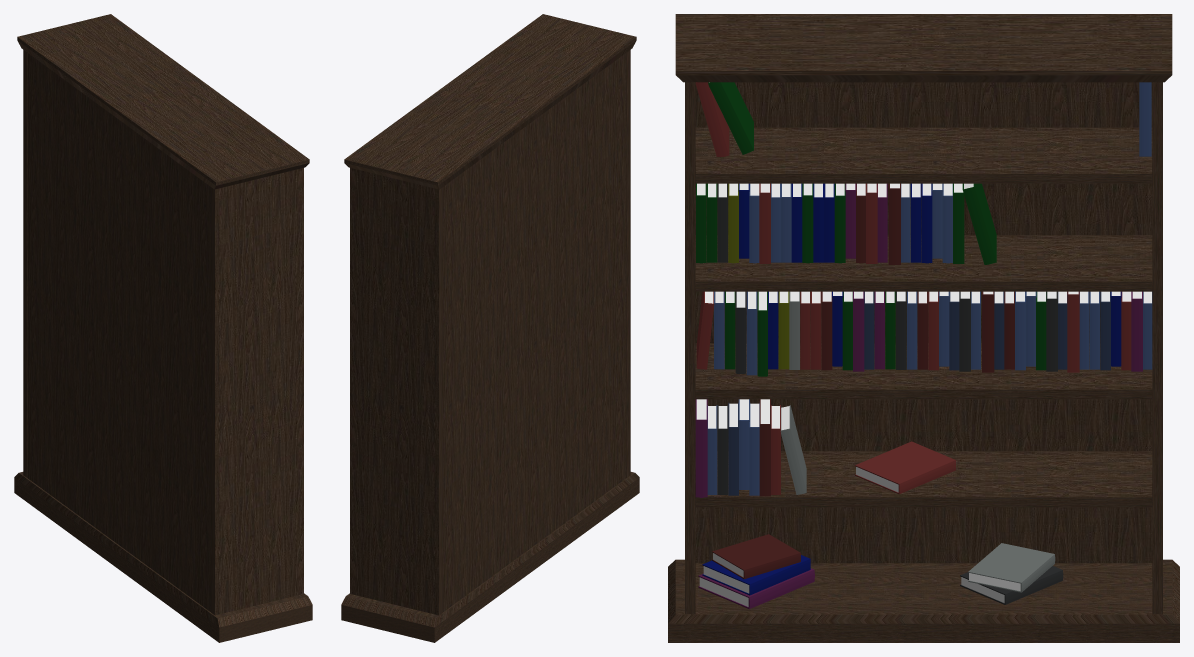
Rendered from BookCase.fbx.
3 renders of one model, left to right at view 1: azimuth 30°, elevation 25°; view 2: azimuth 150°, elevation 25°; view 3: azimuth 270°, elevation 25°, orthographic. The views are drawn at different scales.
Parts seen in each view (by area): view 1: Back, Sides, Top, Bottom; view 2: Back, Sides, Top, Bottom; view 3: Shelves, Back, Top, Bottom, Sides, Book.078, Book.083, Book.081, Book.085, Book.080, Book.079, Book.077 (+79 smaller).
Boxes of the visible parts, x1,y1,x2,y2 form: Back: (28, 53, 210, 611); Sides: (23, 50, 303, 615); Top: (17, 14, 309, 189); Bottom: (14, 472, 312, 642); Back: (443, 53, 625, 611); Sides: (350, 50, 630, 615); Top: (344, 14, 636, 189); Bottom: (341, 472, 639, 642); Shelves: (695, 127, 1152, 507); Back: (695, 82, 1152, 563); Top: (675, 14, 1172, 82); Bottom: (668, 559, 1179, 642); Sides: (685, 82, 1162, 614); Book.078: (855, 441, 955, 494); Book.083: (968, 543, 1055, 592); Book.081: (712, 534, 800, 579); Book.085: (708, 82, 753, 154); Book.080: (702, 555, 810, 595); Book.079: (698, 568, 814, 609); Book.077: (962, 183, 996, 264).
Size of the model in its own units: 52.77 by 247 by 200.
12 materials, 1 textured.
